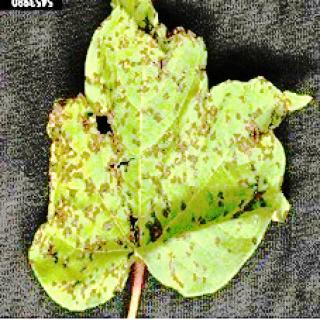blight: (34, 29, 292, 295)
